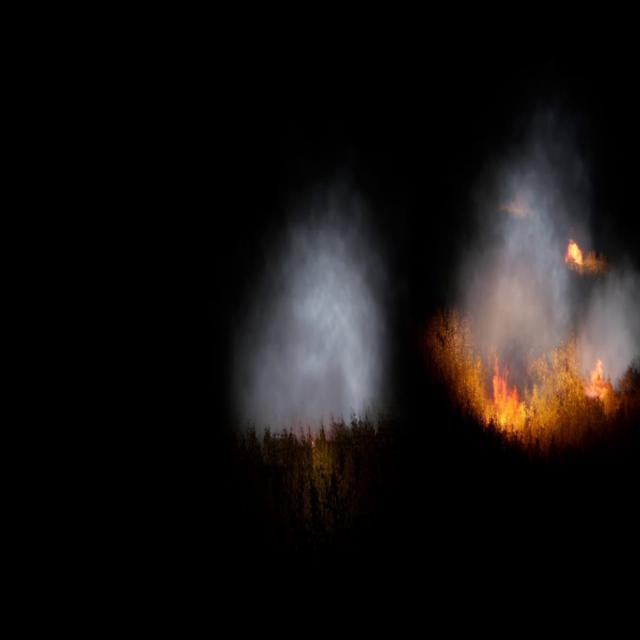fire: (484, 350, 528, 435), (587, 358, 607, 400), (564, 234, 583, 267)
smoke: (451, 128, 640, 397), (234, 187, 390, 432)
